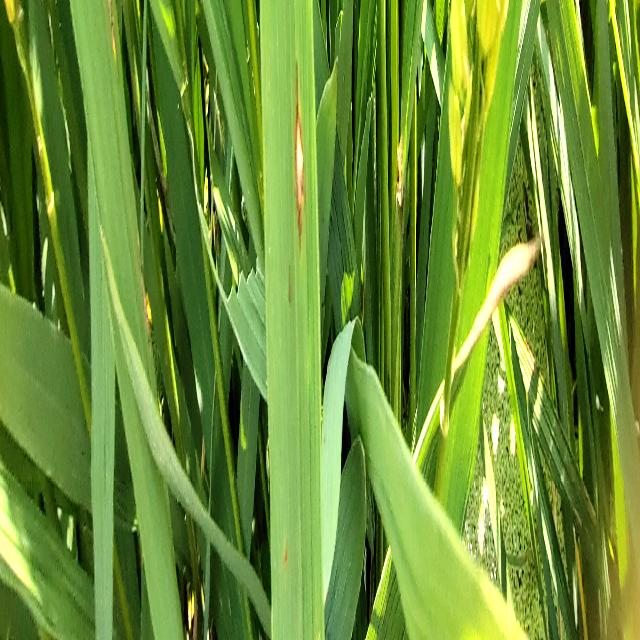LEAF BLAST: (294, 69, 306, 259)
